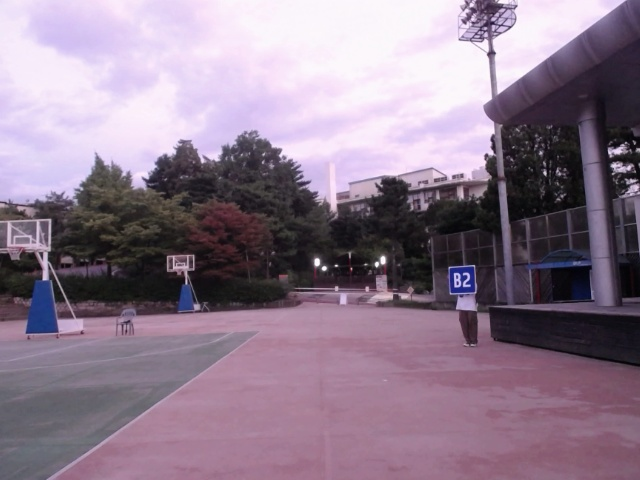delivery_b2: (448, 265, 478, 295)
